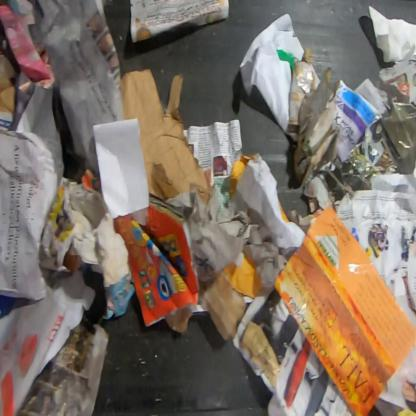cardboard: (120, 68, 210, 204), (288, 46, 341, 183), (200, 272, 248, 343)
